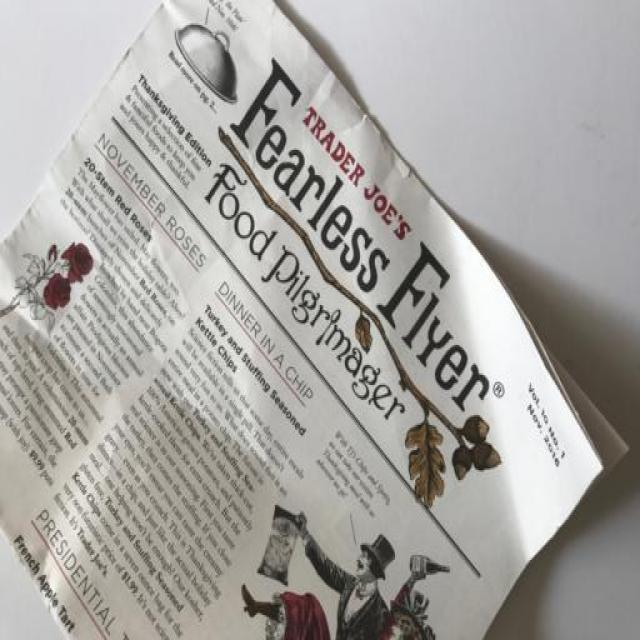paper: (1, 1, 619, 640)
